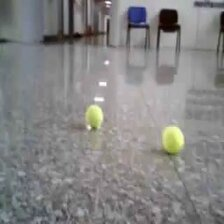tennis: (162, 125, 185, 153), (85, 105, 102, 128)
